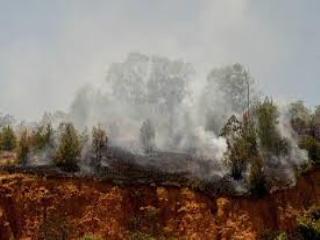smoke: (262, 113, 309, 190), (192, 122, 244, 181)
